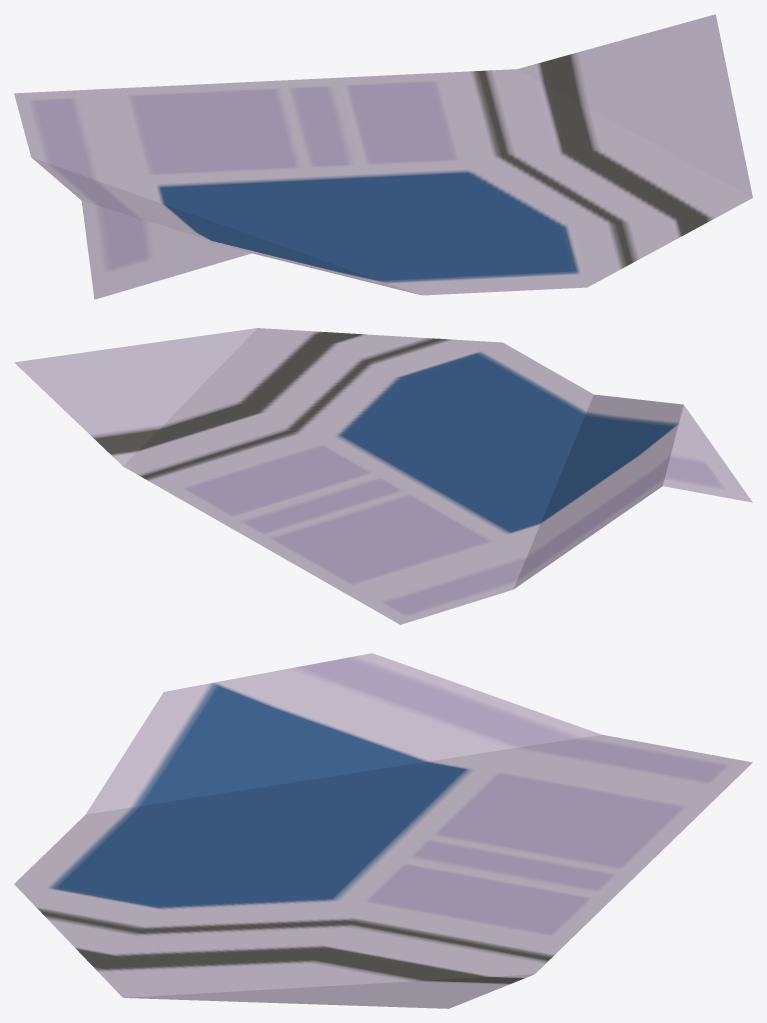
The model's file is SM_FX_Paper_Mesh_01.fbx.
The picture shows the model from 3 angles, top to bottom: view 1: azimuth 30°, elevation 25°; view 2: azimuth 150°, elevation 25°; view 3: azimuth 270°, elevation 25°; orthographic projection. The views are drawn at different scales.
Visible parts, largest first — view 1: SM_FX_Paper_Mesh_01; view 2: SM_FX_Paper_Mesh_01; view 3: SM_FX_Paper_Mesh_01.
Part boxes in pixels (<box>): SM_FX_Paper_Mesh_01: <box>14,14,752,299</box>; SM_FX_Paper_Mesh_01: <box>14,328,752,624</box>; SM_FX_Paper_Mesh_01: <box>14,653,752,1008</box>.
Bounding box in the file's own units: 50.74 × 3.29 × 42.25.
